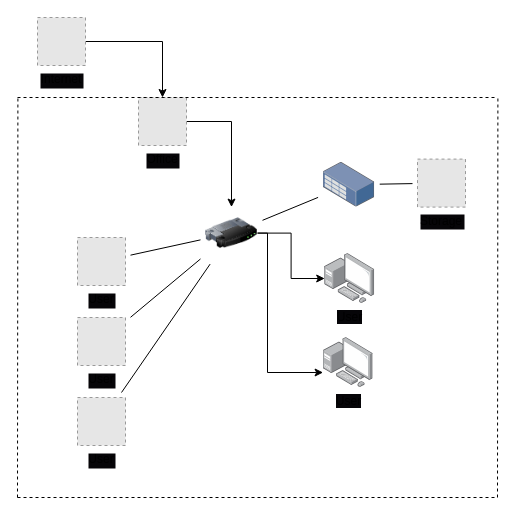
The diagram is 517 pixels wide and 516 high, and some of its shapes have lost their labels. Grey dashed boxes stand in for pictures. The shapes that lost their labels are listed below. From the top down, each one's centre as x and y in pixels, then its label:
point 348,184: Server
point 231,233: Router
